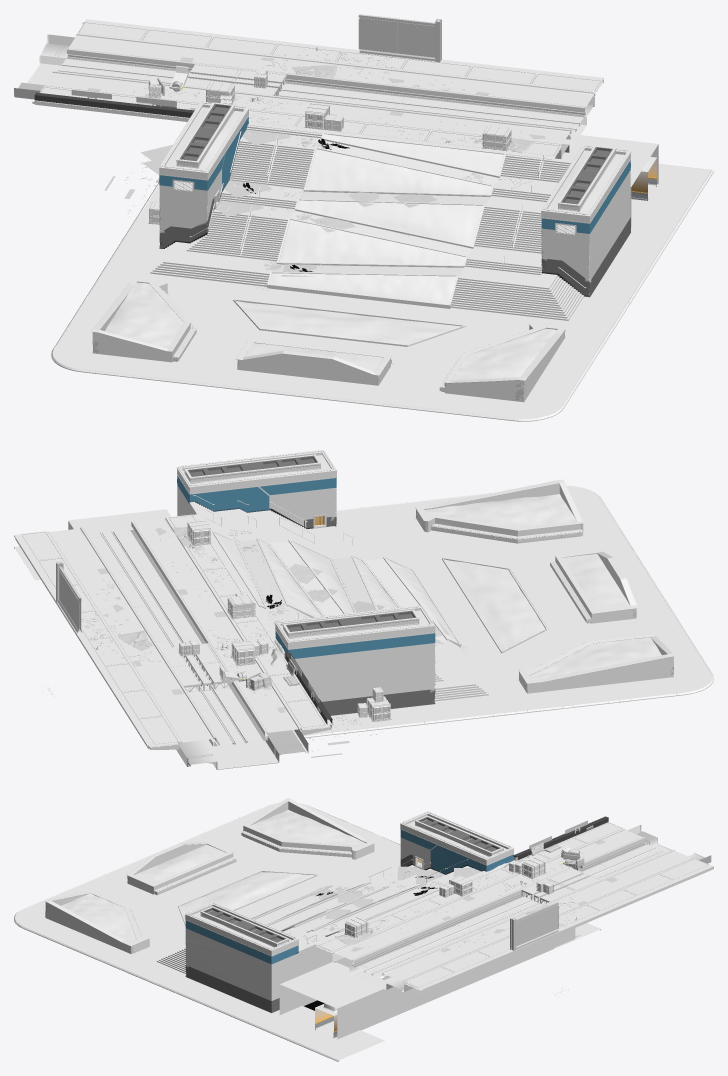
File: cell_168_109.fbx
3 views of the same model, one above another, from view 1: azimuth 30°, elevation 25°; view 2: azimuth 150°, elevation 25°; view 3: azimuth 270°, elevation 25° (orthographic). The views are drawn at different scales.
Visible parts, largest first — view 1: SM_I_RoadFacility_Ground_T_17.mo, SM_I_RoadFacility_Ground_T_18.mo, SM_I_RoadFacility_Ground_T_14.mo, SM_I_RoadFacility_Ground_T_14_Decal.mo, SM_I_RoadFacility_Ground_T_04_Decal.mo, SM_H_Fence_SoundproofWall_02.mo.072, SM_I_RoadFacility_Ground_T_11_Decal.mo, SM_I_RoadFacility_Ground_T_07_InterWall_05.mo, SM_I_RoadFacility_Ground_B_01C.mo.003, SM_H_Industrial_Container_SupplyBox_01.mo.250; view 2: SM_I_RoadFacility_Ground_T_18.mo, SM_I_RoadFacility_Ground_T_17.mo, SM_I_RoadFacility_Ground_T_14.mo, SM_I_RoadFacility_Ground_T_14_Decal.mo, SM_I_RoadFacility_Ground_T_04_Decal.mo, SM_I_RoadFacility_Ground_B_01C.mo.003, SM_I_RoadFacility_Ground_T_11_Decal.mo, SM_I_RoadFacility_Ground_T_07_InterWall_05.mo, SM_H_Fence_SoundproofWall_02.mo.072, SM_H_Industrial_Container_SupplyBox_01.mo.247, SM_H_Industrial_Container_SupplyBox_01.mo.223, SM_H_Industrial_Container_SupplyBox_01.mo.250 (+1 smaller); view 3: SM_I_RoadFacility_Ground_T_18.mo, SM_I_RoadFacility_Ground_T_14.mo, SM_I_RoadFacility_Ground_T_17.mo, SM_I_RoadFacility_Ground_T_07_InterWall_05.mo, SM_I_RoadFacility_Ground_T_14_Decal.mo, SM_I_RoadFacility_Ground_T_04_Decal.mo, SM_H_Fence_SoundproofWall_02.mo.072, SM_I_RoadFacility_Ground_B_01C.mo.003, SM_I_RoadFacility_Ground_T_11_Decal.mo.
Part boxes in pixels (x1,y1,x2,y2): SM_I_RoadFacility_Ground_T_17.mo: [150, 102, 631, 320]; SM_I_RoadFacility_Ground_T_18.mo: [51, 164, 713, 421]; SM_I_RoadFacility_Ground_T_14.mo: [14, 19, 603, 159]; SM_I_RoadFacility_Ground_T_14_Decal.mo: [44, 34, 594, 144]; SM_I_RoadFacility_Ground_T_04_Decal.mo: [53, 170, 711, 418]; SM_H_Fence_SoundproofWall_02.mo.072: [358, 14, 441, 62]; SM_I_RoadFacility_Ground_T_11_Decal.mo: [53, 34, 594, 145]; SM_I_RoadFacility_Ground_T_07_InterWall_05.mo: [555, 135, 658, 227]; SM_I_RoadFacility_Ground_B_01C.mo.003: [184, 64, 286, 95]; SM_H_Industrial_Container_SupplyBox_01.mo.250: [482, 125, 511, 151]; SM_I_RoadFacility_Ground_T_18.mo: [14, 479, 713, 737]; SM_I_RoadFacility_Ground_T_17.mo: [176, 450, 488, 715]; SM_I_RoadFacility_Ground_T_14.mo: [14, 514, 333, 769]; SM_I_RoadFacility_Ground_T_14_Decal.mo: [48, 518, 298, 742]; SM_I_RoadFacility_Ground_T_04_Decal.mo: [15, 486, 711, 735]; SM_I_RoadFacility_Ground_B_01C.mo.003: [160, 643, 231, 692]; SM_I_RoadFacility_Ground_T_11_Decal.mo: [49, 519, 266, 746]; SM_I_RoadFacility_Ground_T_07_InterWall_05.mo: [68, 509, 171, 533]; SM_H_Fence_SoundproofWall_02.mo.072: [56, 561, 82, 633]; SM_H_Industrial_Container_SupplyBox_01.mo.247: [227, 594, 255, 619]; SM_H_Industrial_Container_SupplyBox_01.mo.223: [230, 640, 255, 666]; SM_H_Industrial_Container_SupplyBox_01.mo.250: [186, 520, 211, 545]; SM_I_RoadFacility_Ground_T_18.mo: [14, 798, 601, 1061]; SM_I_RoadFacility_Ground_T_14.mo: [314, 816, 713, 992]; SM_I_RoadFacility_Ground_T_17.mo: [156, 811, 514, 1012]; SM_I_RoadFacility_Ground_T_07_InterWall_05.mo: [279, 928, 575, 1039]; SM_I_RoadFacility_Ground_T_14_Decal.mo: [334, 829, 693, 980]; SM_I_RoadFacility_Ground_T_04_Decal.mo: [16, 803, 599, 1059]; SM_H_Fence_SoundproofWall_02.mo.072: [510, 902, 558, 950]; SM_I_RoadFacility_Ground_B_01C.mo.003: [521, 868, 600, 904]; SM_I_RoadFacility_Ground_T_11_Decal.mo: [334, 843, 674, 981].
Size of the model in its own units: 91.48 by 13.8 by 105.
